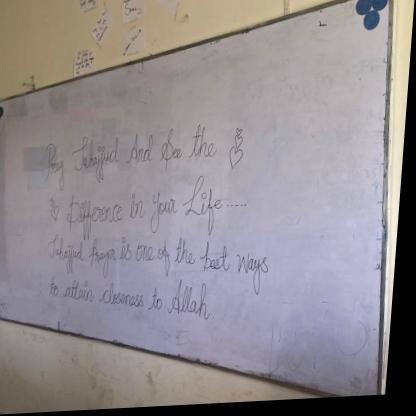Handwritten text: (37, 112, 227, 196), (45, 225, 276, 288), (62, 173, 230, 248), (43, 273, 224, 327)
